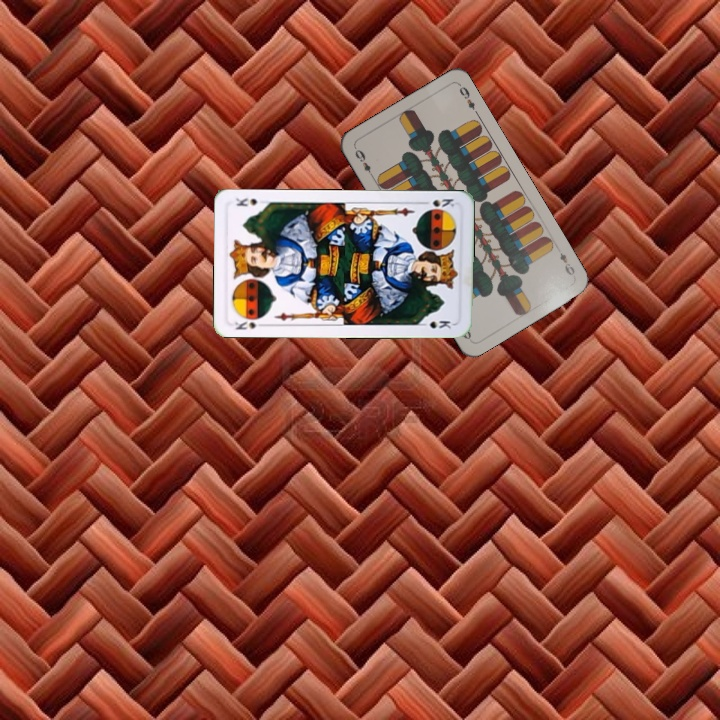E9: (350, 144, 376, 181), (555, 248, 577, 278)
SK: (417, 195, 457, 212), (231, 317, 269, 332)
